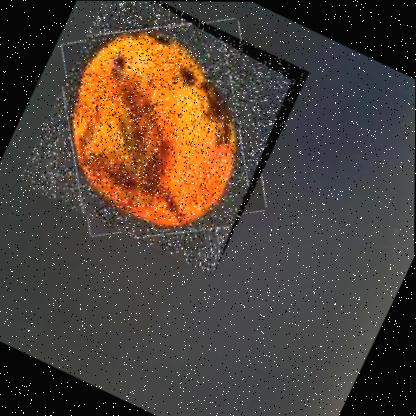mango_rotten: (15, 0, 311, 276)
